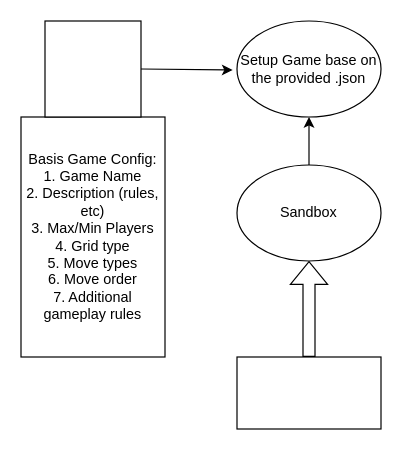
Some shapes in this 402 by 450 pixel diagram are drawn without their labels. The shapes that lost their labels are listed below. From the top down, each one's box as (x1, y1, x2, y2) in pixels, then its label:
(44, 20, 141, 117): game.json
(236, 356, 381, 429): OMNI-GRID
